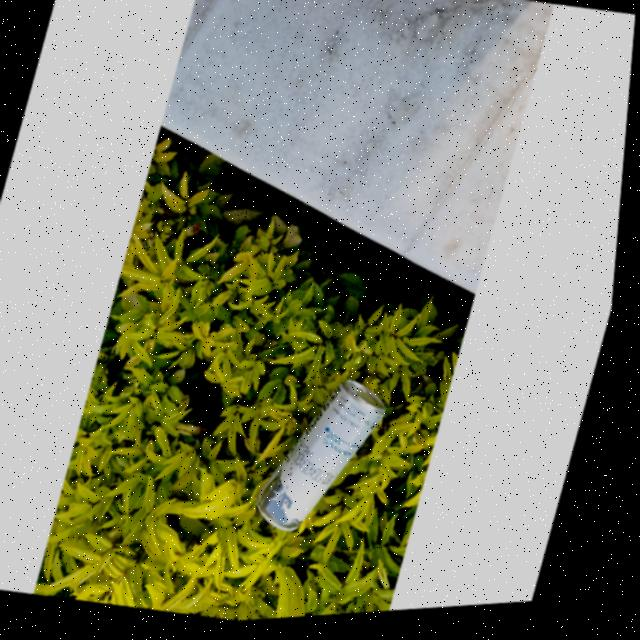Redbull Summer Edition: (251, 368, 402, 554)
